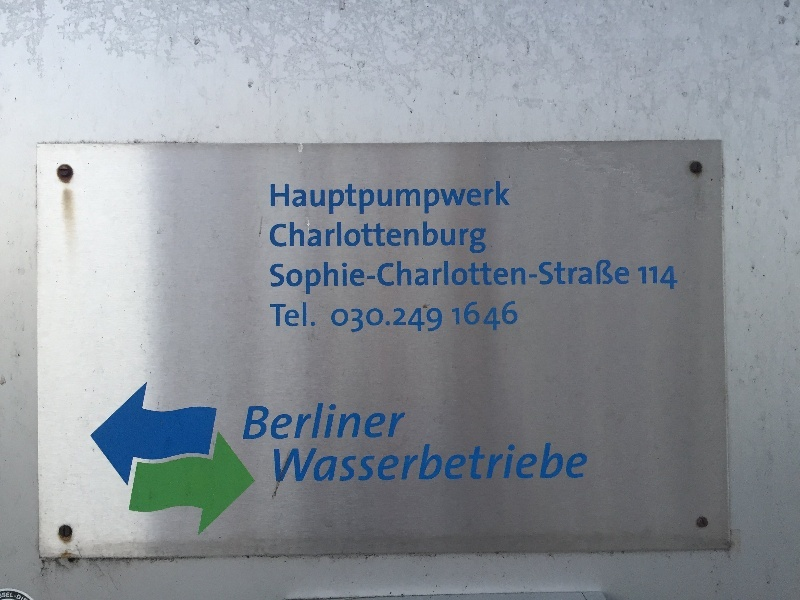text: (289, 442, 304, 483), (305, 442, 320, 483), (321, 442, 336, 483), (337, 442, 352, 483), (353, 442, 368, 483), (369, 442, 384, 483), (385, 442, 400, 483), (401, 442, 416, 483), (417, 442, 432, 483), (433, 442, 448, 483), (449, 442, 464, 483), (465, 442, 480, 483), (481, 442, 496, 483), (497, 442, 512, 483), (513, 442, 528, 483), (529, 442, 544, 483), (545, 442, 560, 483), (561, 442, 576, 483), (274, 442, 288, 483), (257, 402, 272, 440), (273, 402, 288, 440), (289, 402, 304, 440), (305, 402, 320, 440), (321, 402, 336, 440), (337, 402, 352, 440), (353, 402, 368, 440), (369, 402, 384, 440), (385, 402, 400, 440), (273, 260, 288, 297), (289, 260, 304, 297), (305, 260, 320, 297), (321, 260, 336, 297), (337, 260, 352, 297), (353, 260, 368, 297), (369, 260, 384, 297), (385, 260, 400, 297), (401, 260, 416, 297), (417, 260, 432, 297), (433, 260, 448, 297), (449, 260, 464, 297), (465, 260, 480, 297), (481, 260, 496, 297), (497, 260, 512, 297), (513, 260, 528, 297), (529, 260, 544, 297), (545, 260, 560, 297), (561, 260, 576, 297), (577, 260, 592, 297), (593, 260, 608, 297), (609, 260, 624, 297), (577, 442, 590, 483), (273, 182, 288, 215), (289, 182, 304, 215), (305, 182, 320, 215), (321, 182, 336, 215), (337, 182, 352, 215), (353, 182, 368, 215), (369, 182, 384, 215), (385, 182, 400, 215), (401, 182, 416, 215), (417, 182, 432, 215), (433, 182, 448, 215), (449, 182, 464, 215), (465, 182, 480, 215), (481, 182, 496, 215), (273, 222, 288, 254), (289, 222, 304, 254), (305, 222, 320, 254), (321, 222, 336, 254), (337, 222, 352, 254), (353, 222, 368, 254), (369, 222, 384, 254), (385, 222, 400, 254), (401, 222, 416, 254), (417, 222, 432, 254), (433, 222, 448, 254), (449, 222, 464, 254), (465, 222, 480, 254), (465, 300, 480, 332), (481, 300, 496, 332), (497, 300, 512, 332), (497, 182, 510, 215), (451, 300, 464, 332), (273, 303, 288, 329), (289, 303, 304, 329), (641, 267, 656, 292), (657, 267, 672, 292), (337, 308, 352, 333), (353, 308, 368, 333), (369, 308, 384, 333), (385, 308, 400, 333), (401, 308, 416, 333), (417, 308, 432, 333), (305, 303, 318, 329), (401, 402, 408, 440), (250, 402, 256, 440), (433, 308, 442, 333), (625, 260, 630, 297), (481, 222, 486, 254), (513, 300, 518, 332), (673, 267, 678, 292), (331, 308, 336, 333), (269, 222, 272, 254), (269, 303, 272, 329), (270, 260, 272, 297), (638, 267, 640, 292), (271, 182, 272, 215)
